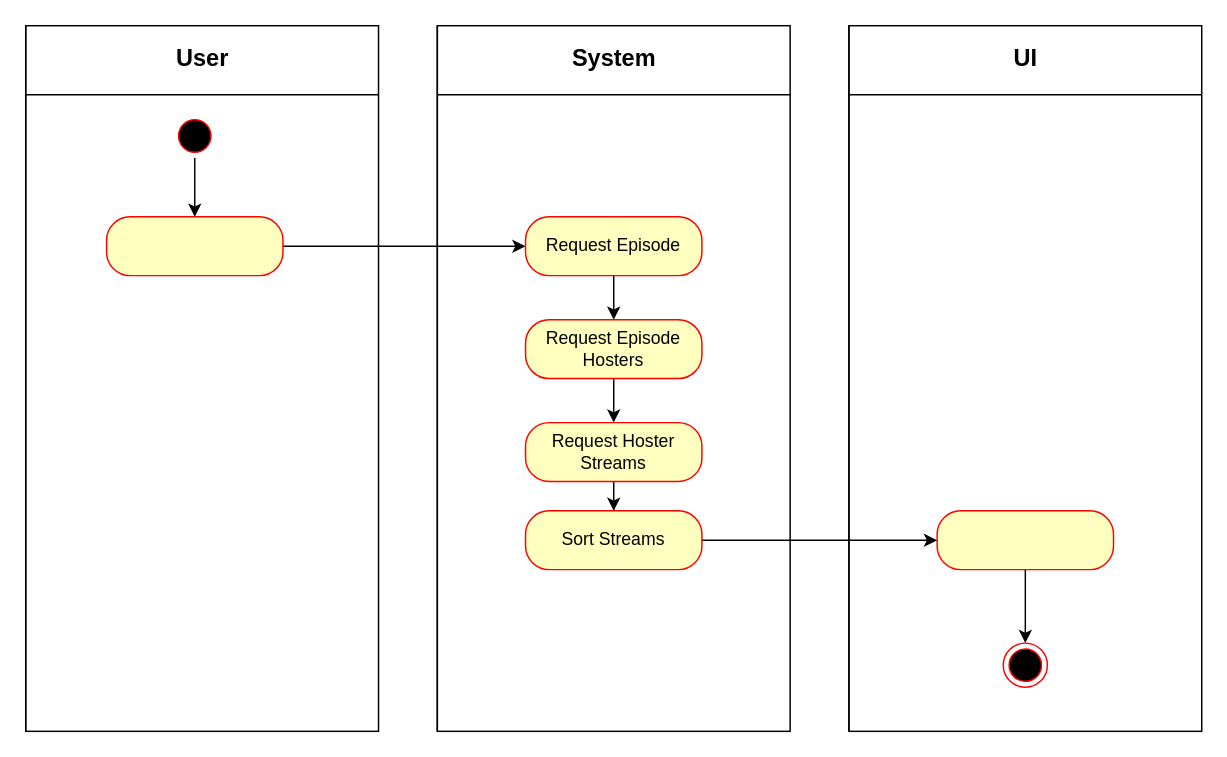
Some shapes in this 1227 by 757 pixel diagram are drawn without their labels. The centre of each missing label's shape, as x and y in pixels:
"Opens Episode Box" belongs at point (194, 245).
"Show Streams as Dropdown" belongs at point (1025, 539).
